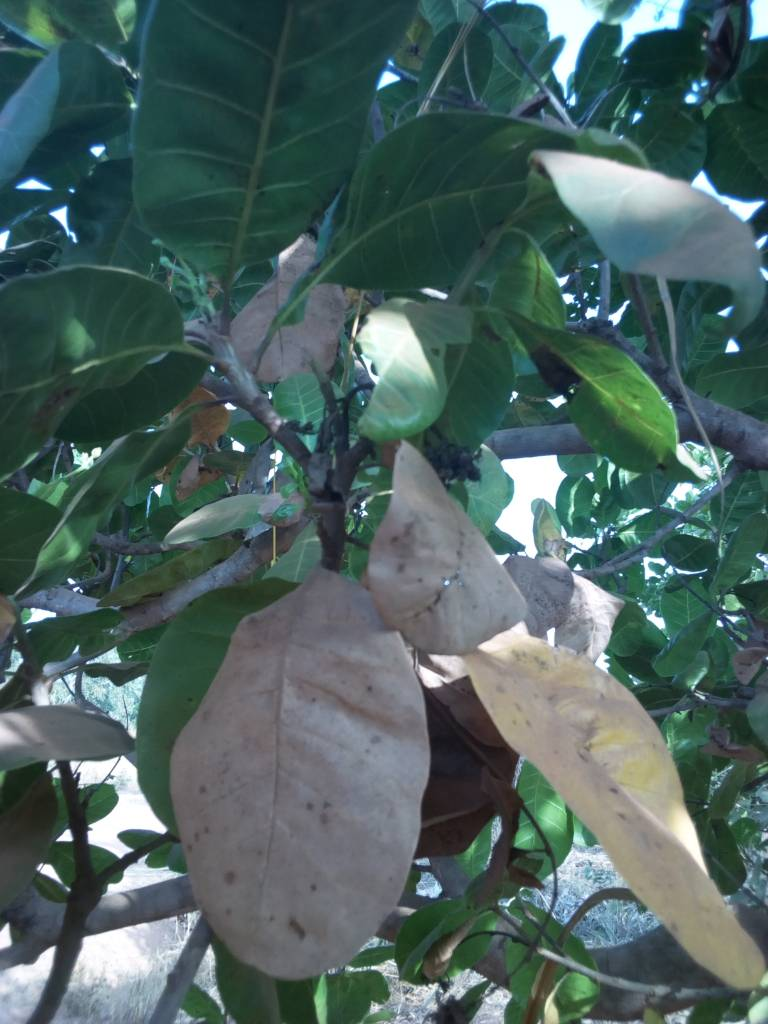Dessèchement des bourgeons: (301, 373, 389, 503), (444, 447, 480, 477)
